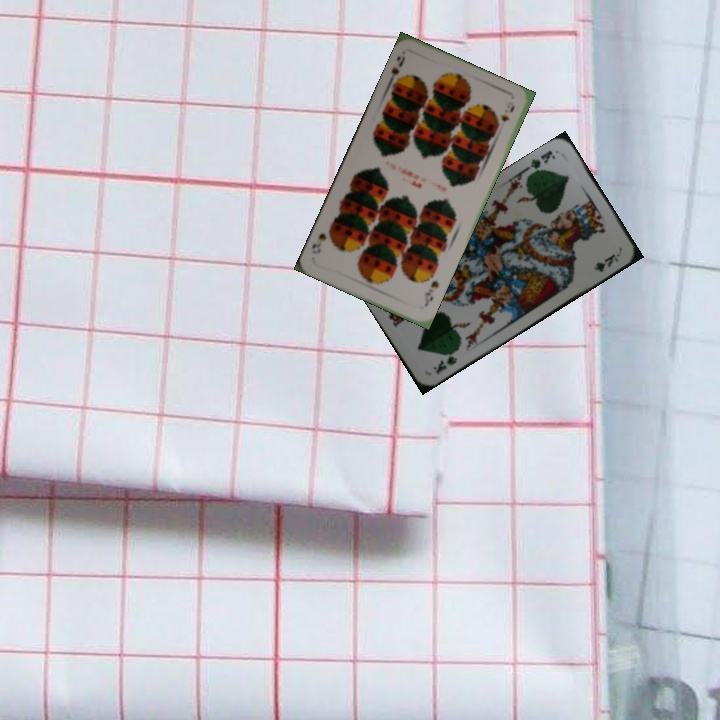GK: (522, 146, 558, 178), (429, 346, 460, 377)
S9: (384, 52, 408, 89), (420, 276, 441, 309)
